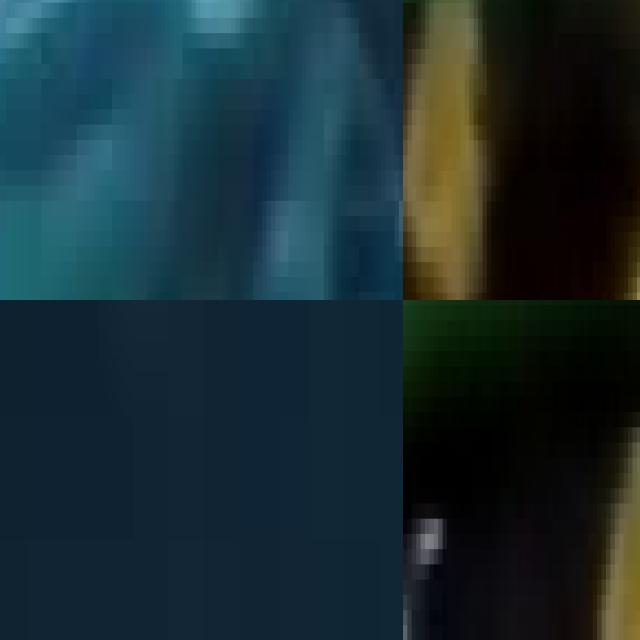fish: (0, 0, 403, 300), (403, 18, 640, 300)
